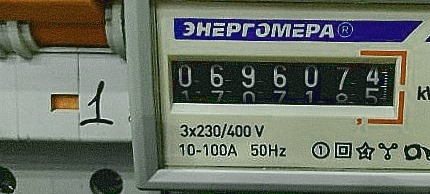0: (174, 62, 194, 87), (301, 62, 319, 88)
4: (363, 62, 380, 84)
5: (363, 85, 379, 105)
6: (269, 61, 288, 88), (206, 61, 225, 87)
7: (333, 63, 350, 90)
9: (238, 61, 255, 87)
screen: (156, 41, 410, 127)
